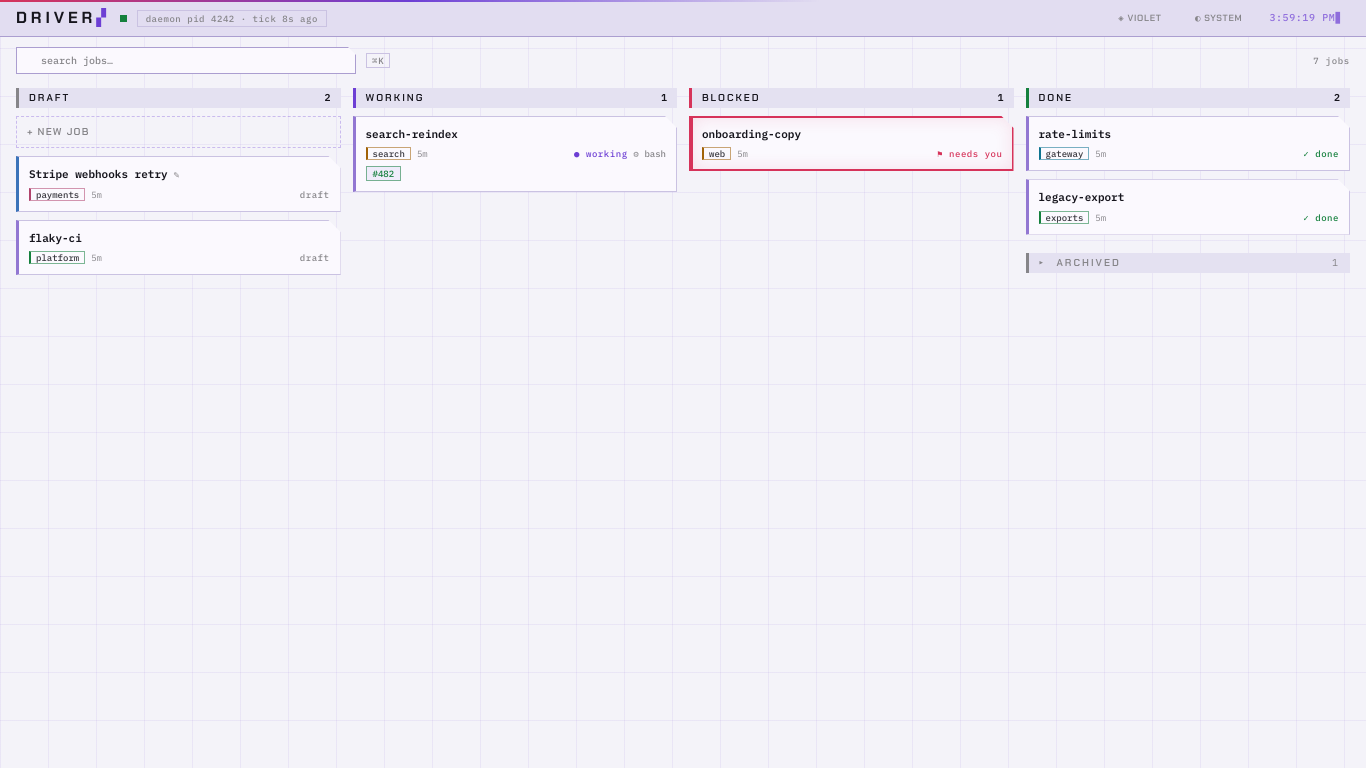
Test case: BoardView (DOM smoke test) › shows the session-ended banner for a finished job's terminal
This screenshot has width=1366, height=768.
Click the button "rate-limits gateway 5m ✓ done".
click(1075, 134)  # box [1026,116,1350,171]
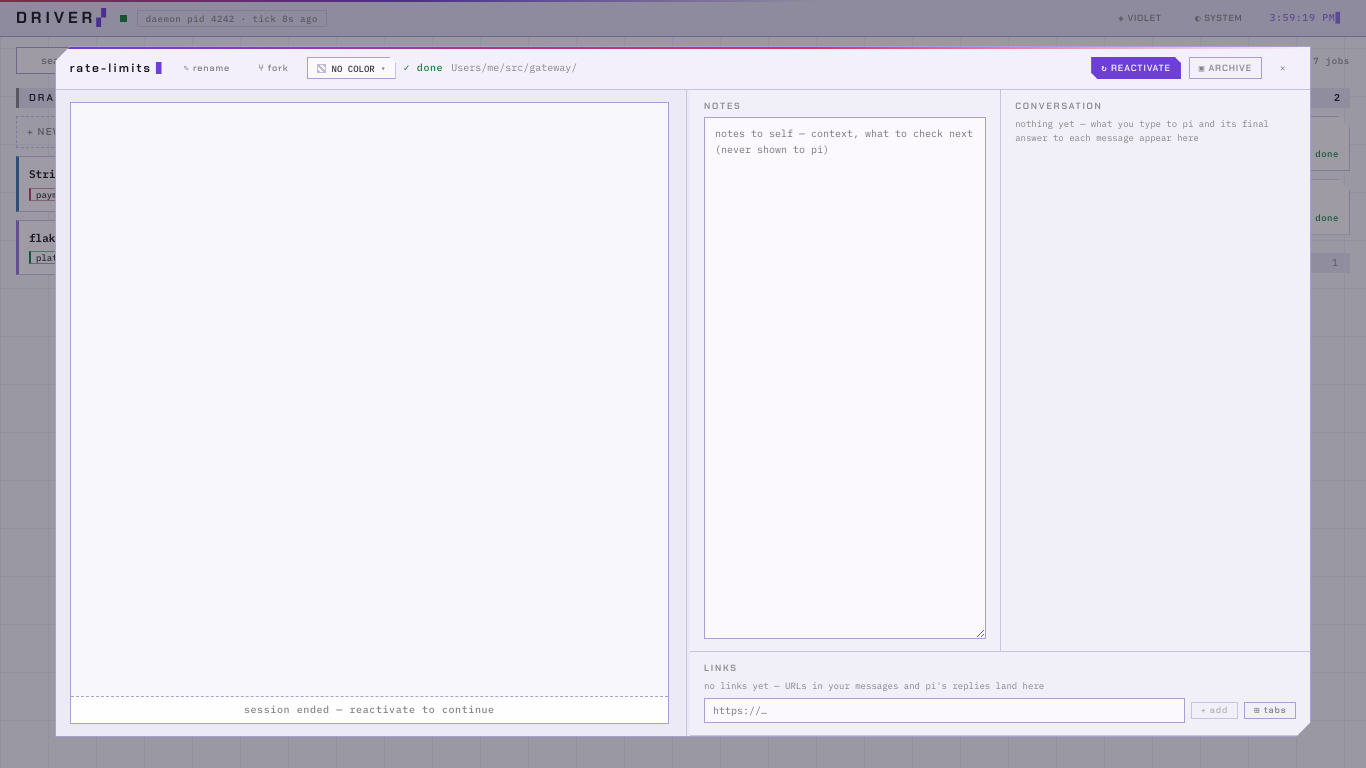
Expected: the text "session ended — reactivate to continue" is shown, [71,696,668,723]
Expected: the button "↻ REACTIVATE" is shown, [1091,57,1181,79]
Expected: the button "▣ ARCHIVE" is shown, [1189,57,1262,79]
